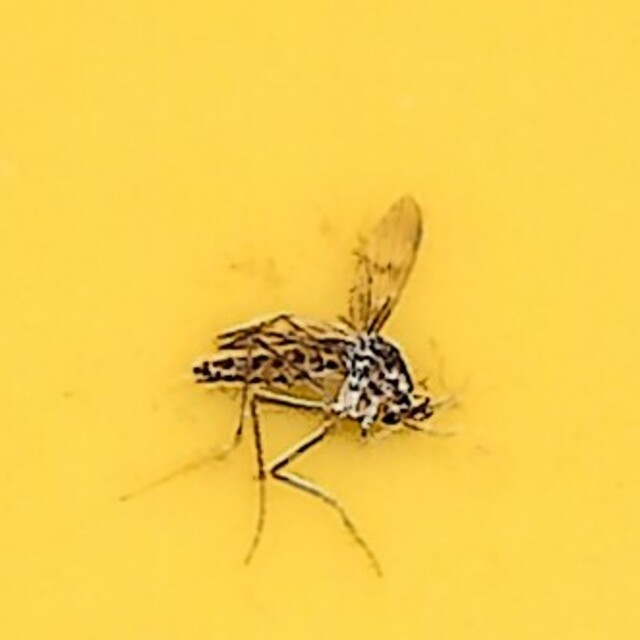Nematocera: (193, 198, 447, 442)
